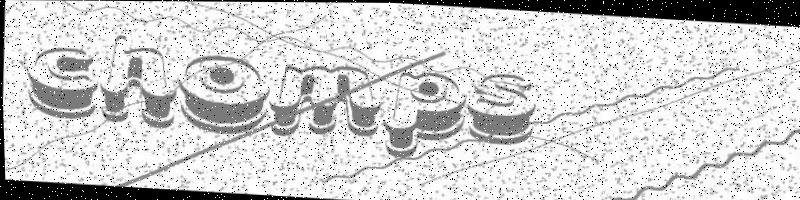c: (20, 36, 101, 123)
h: (96, 23, 181, 146)
m: (267, 60, 384, 143)
o: (171, 40, 272, 141)
p: (383, 62, 467, 162)
s: (462, 66, 540, 147)
